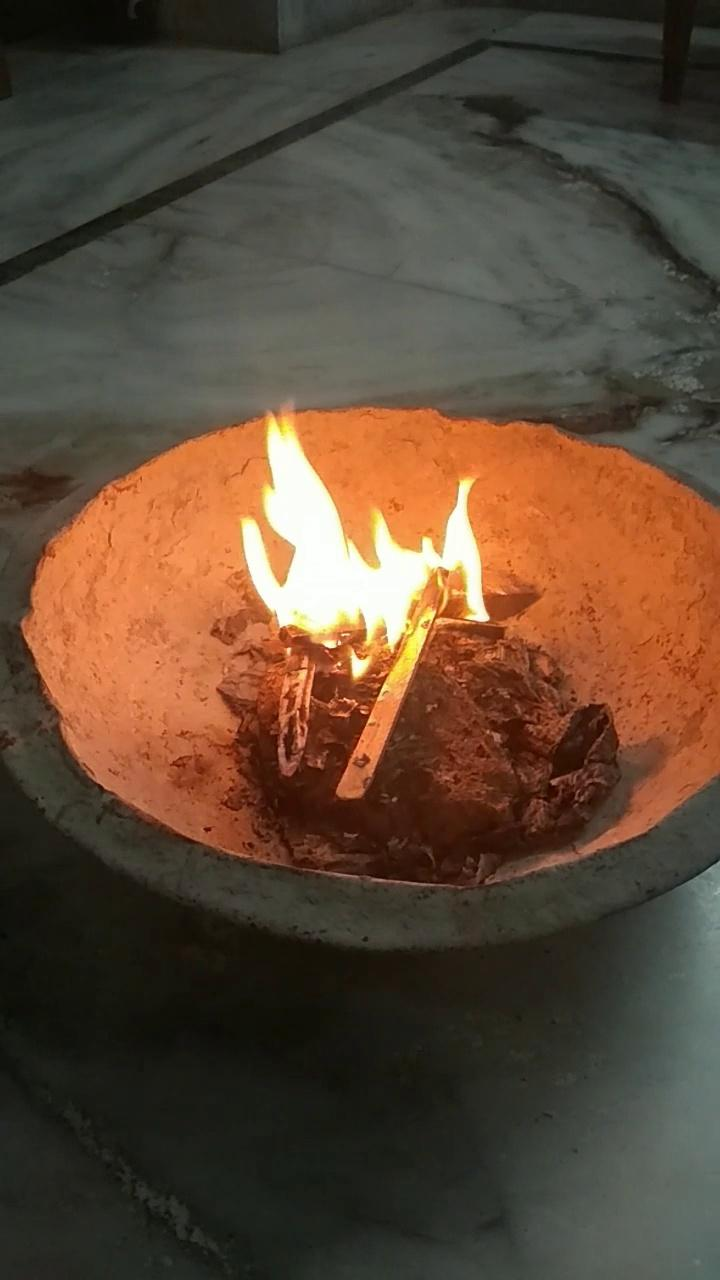fire: (234, 406, 518, 647)
